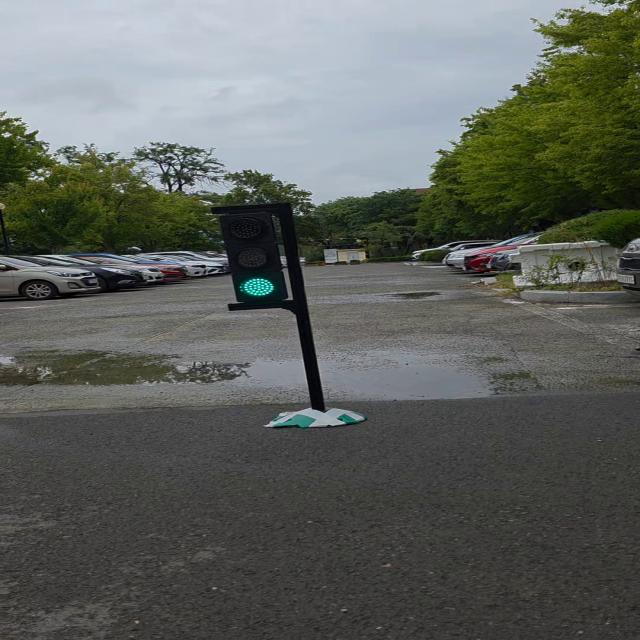green: (210, 206, 300, 306)
